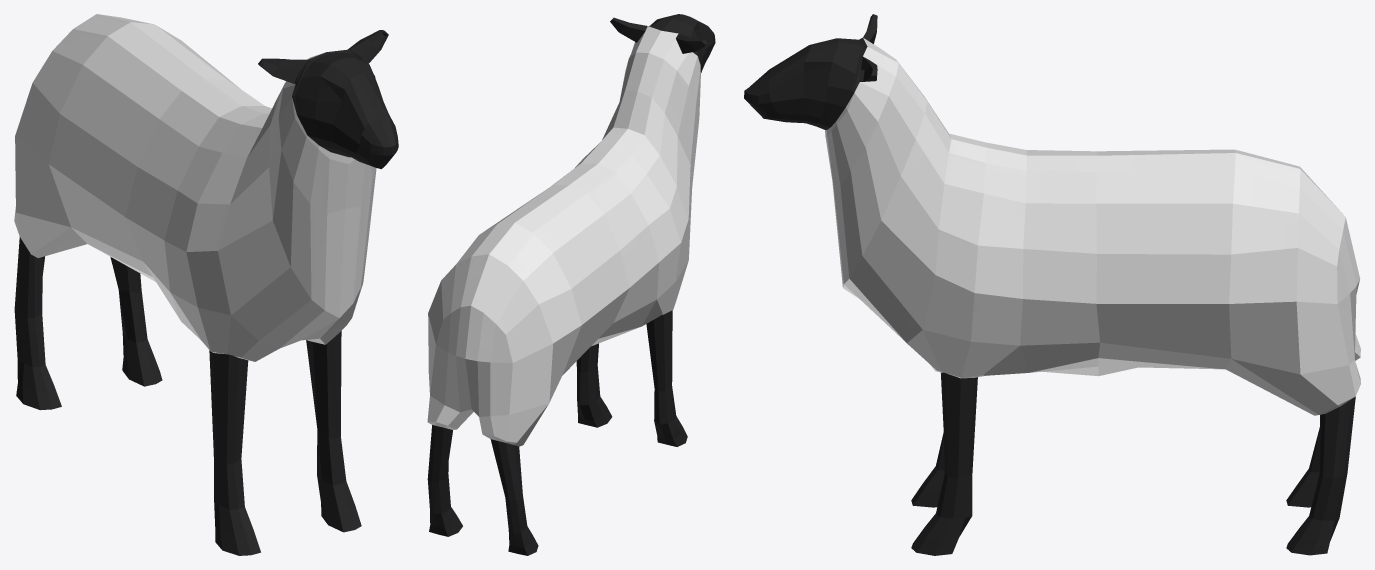
File: sheep.glb
The picture shows the model from 3 angles, left to right: view 1: azimuth 30°, elevation 25°; view 2: azimuth 150°, elevation 25°; view 3: azimuth 270°, elevation 25°; orthographic projection. The views are drawn at different scales.
Visible parts, largest first — view 1: 10sheepFinal; view 2: 10sheepFinal; view 3: 10sheepFinal.
Boxes of the visible parts, x1,y1,x2,y2 form: 10sheepFinal: (14, 14, 398, 555); 10sheepFinal: (427, 14, 715, 555); 10sheepFinal: (744, 14, 1360, 555).
Size of the model in its own units: 0.4307 by 1.23 by 1.43.
Materials: 1 (1 with a texture image).
